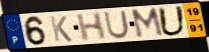6: (23, 14, 49, 46)
H: (75, 11, 108, 43)
K: (49, 15, 74, 43)
M: (129, 6, 166, 40)
U: (156, 5, 187, 38), (102, 9, 131, 40)
